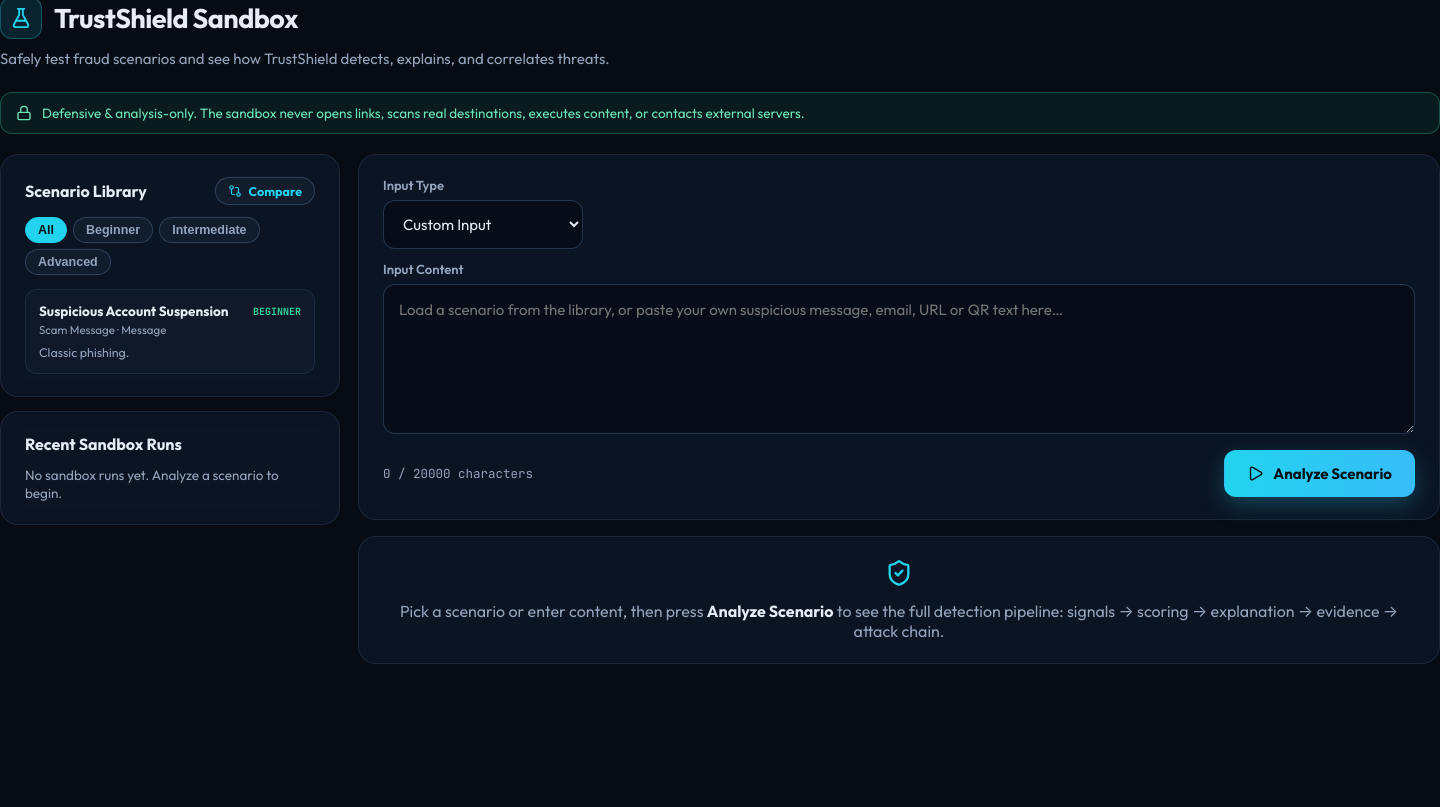
Test case: Sandbox page › analyzes and renders the result
The width and height of the screenshot is (1440, 807).
Click the element with test id "scenario-card-account-suspension": x=170, y=332 [25,289,315,374]
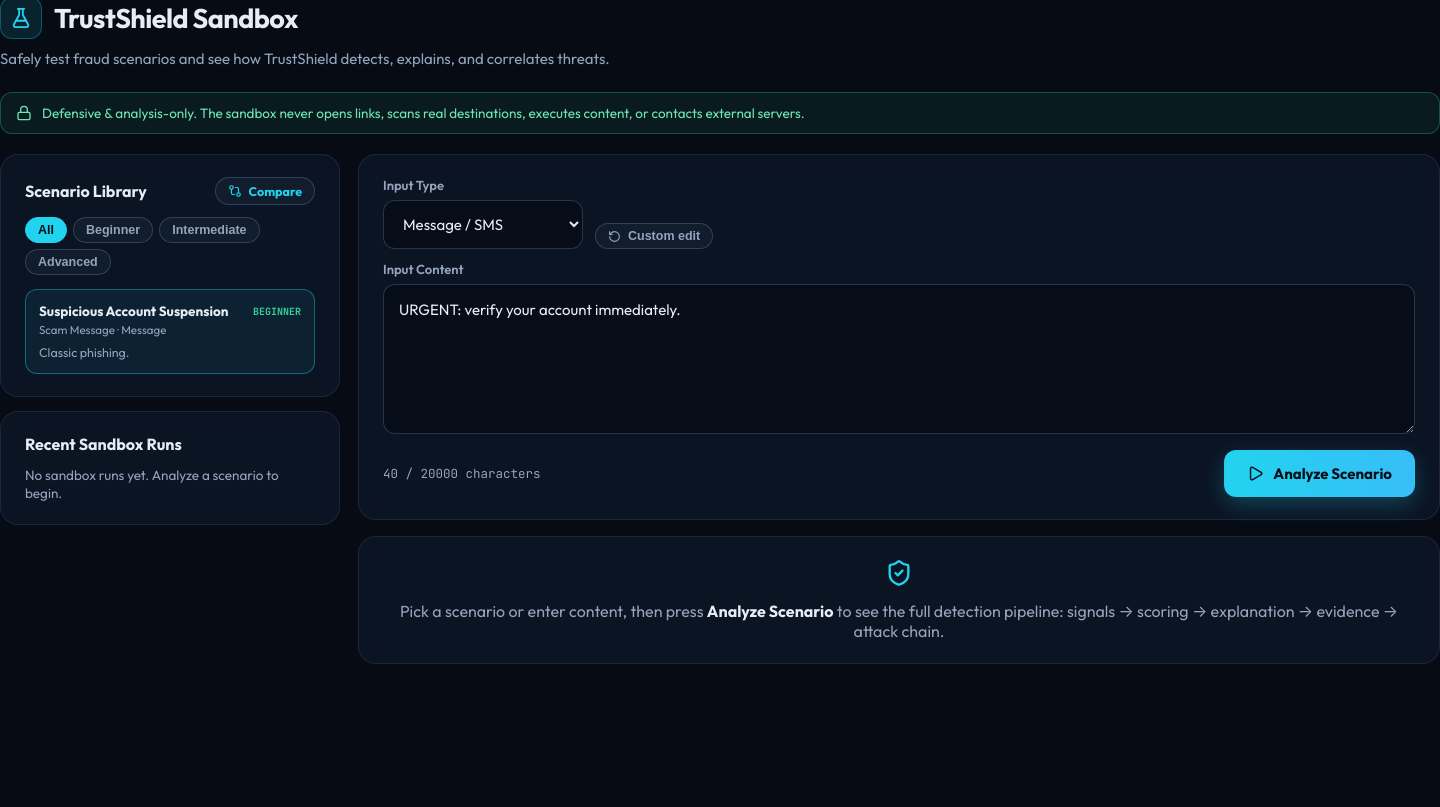
Click the button with test id "sandbox-analyze-btn": x=1320, y=474 [1224,450,1415,497]
(page scrolled)
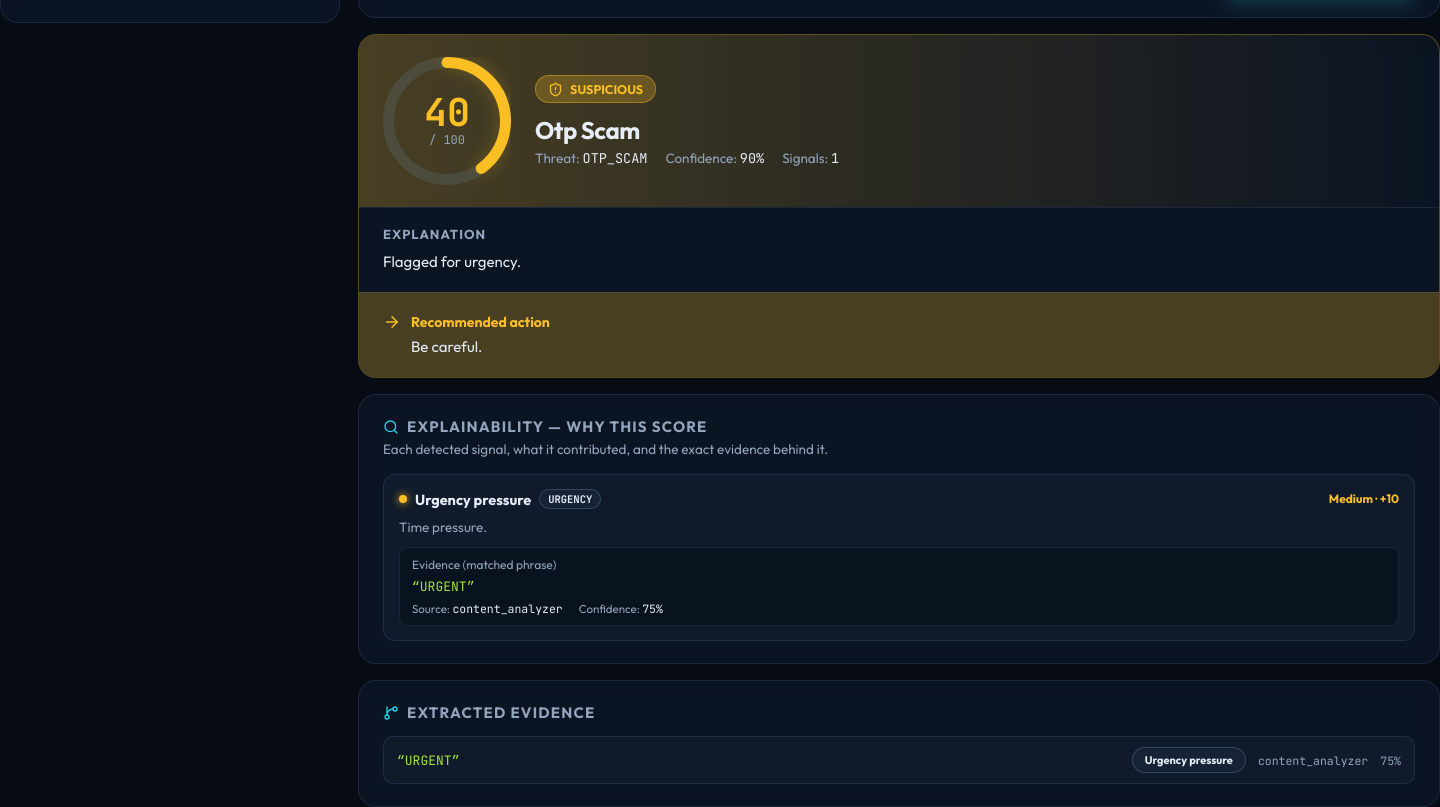
Expected: the element with test id "sandbox-result" is shown
Expected: the element with test id "result-classification" reads "SUSPICIOUS", [570,81,643,97]
Expected: the list item with test id "signal-item-URGENCY" is shown, [383,474,1415,641]
